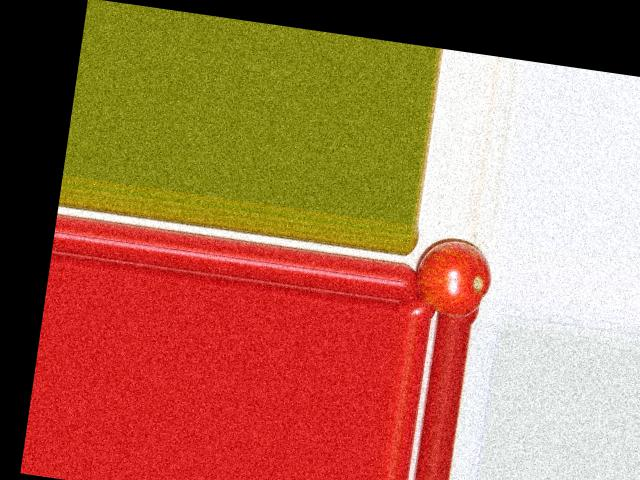tomato: (411, 235, 496, 321)
